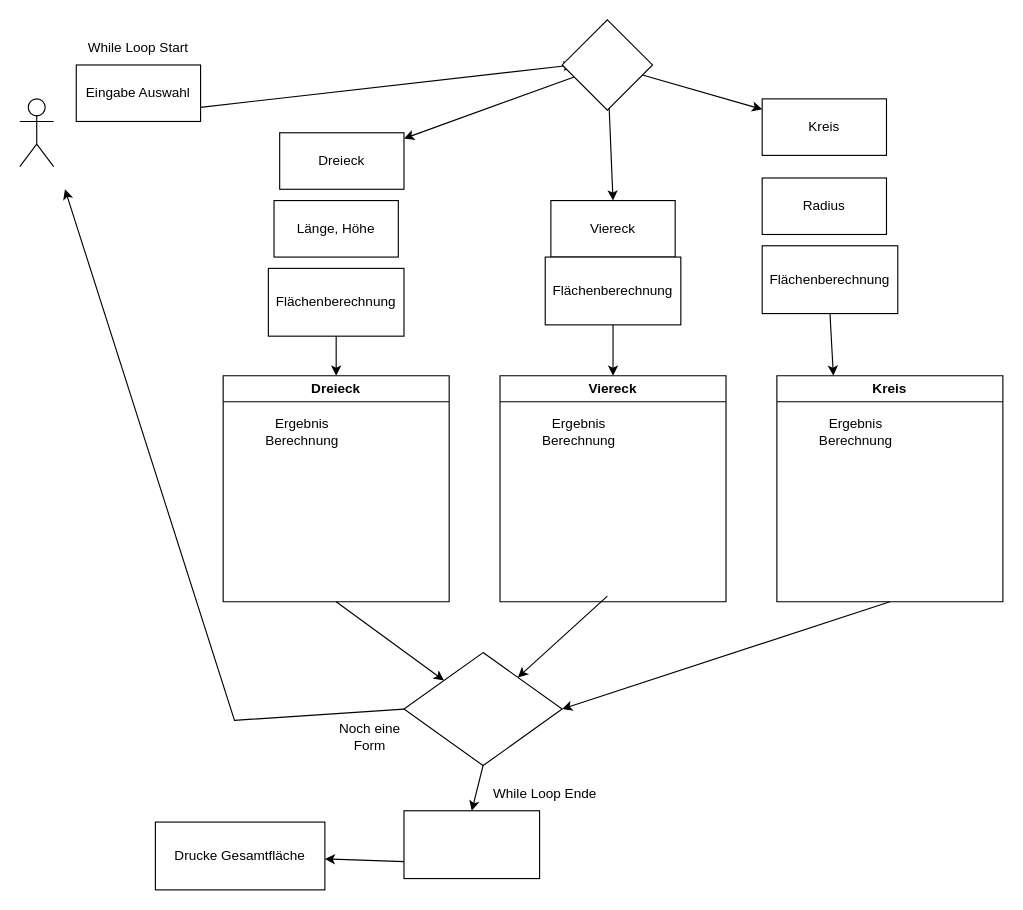
This 1023x910 diagram has some shape labels left out. The box of each missing label's shape, as (x1, y1, x2, y2) in pixels:
Abfrage weiter oder Ende?: (403, 651, 562, 766)
Actor: (19, 98, 54, 167)
switch: (561, 19, 653, 110)
while Loop break: (403, 810, 540, 879)
